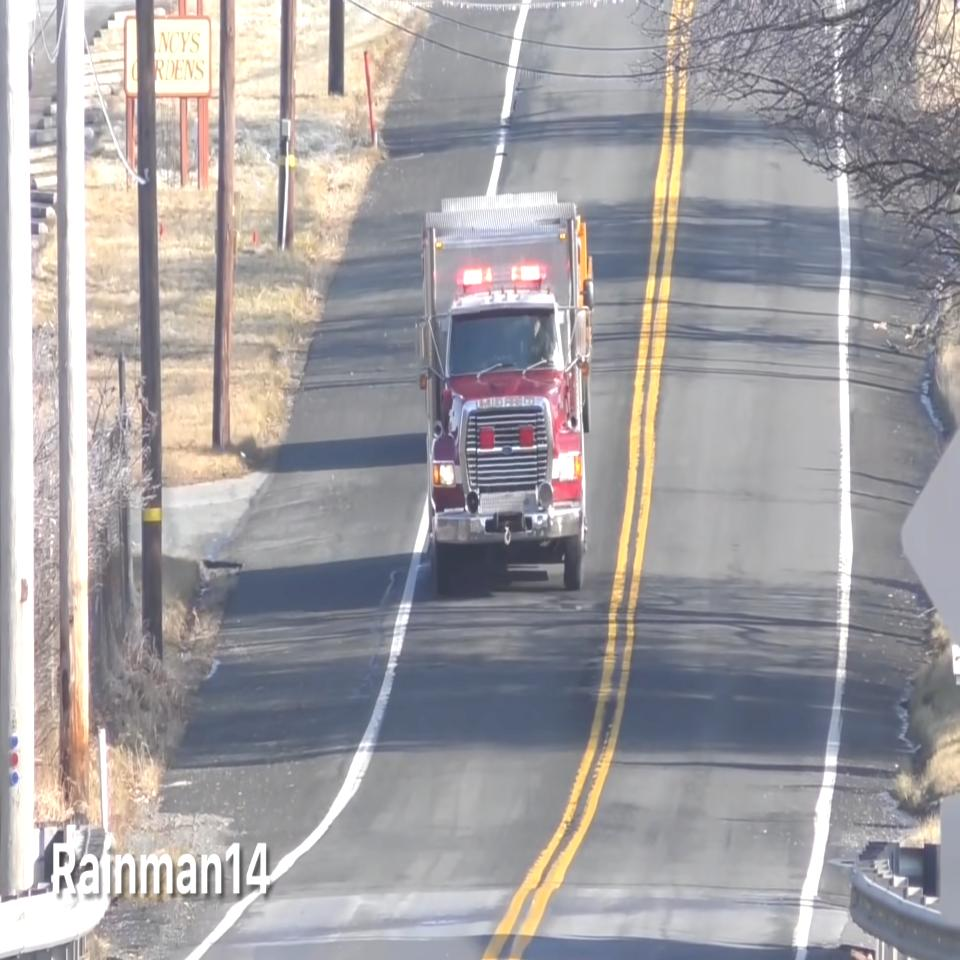bombeiro: (414, 192, 594, 587)
